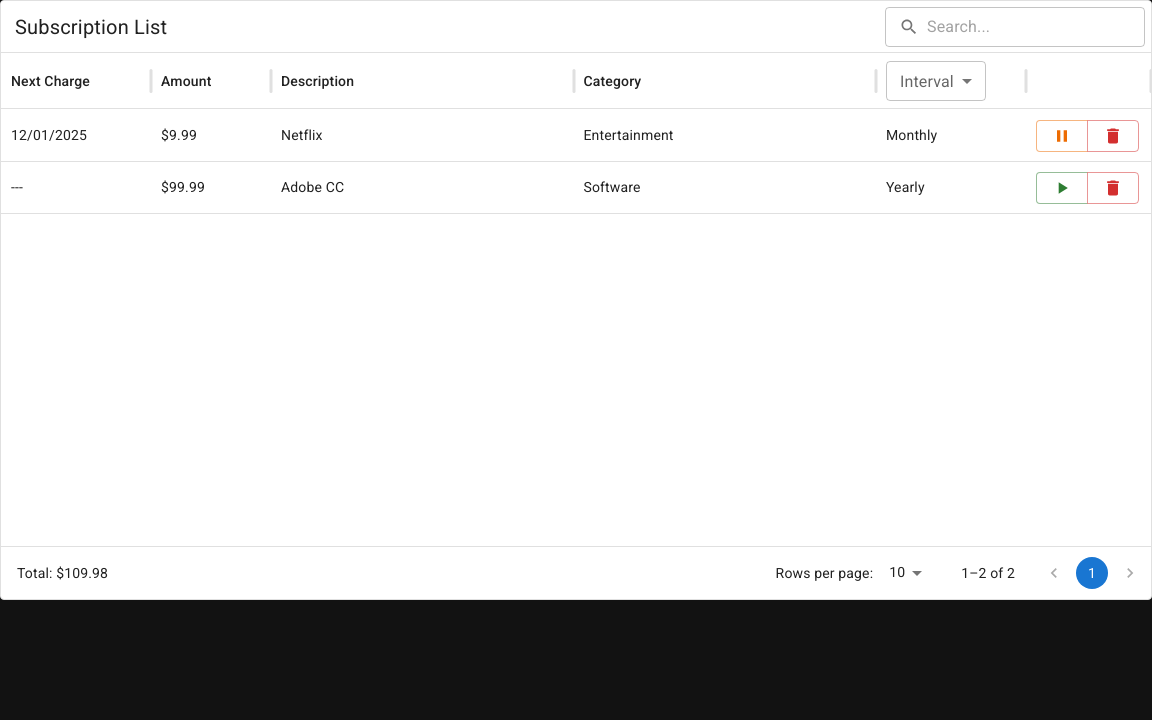
Test case: Subscription List Component › Delete Subscription › Closes dialog when cancel is clicked
The width and height of the screenshot is (1152, 720).
Click the button named "delete" in the row of "12/01/2025": [1113, 136] box [1087, 120, 1139, 152]
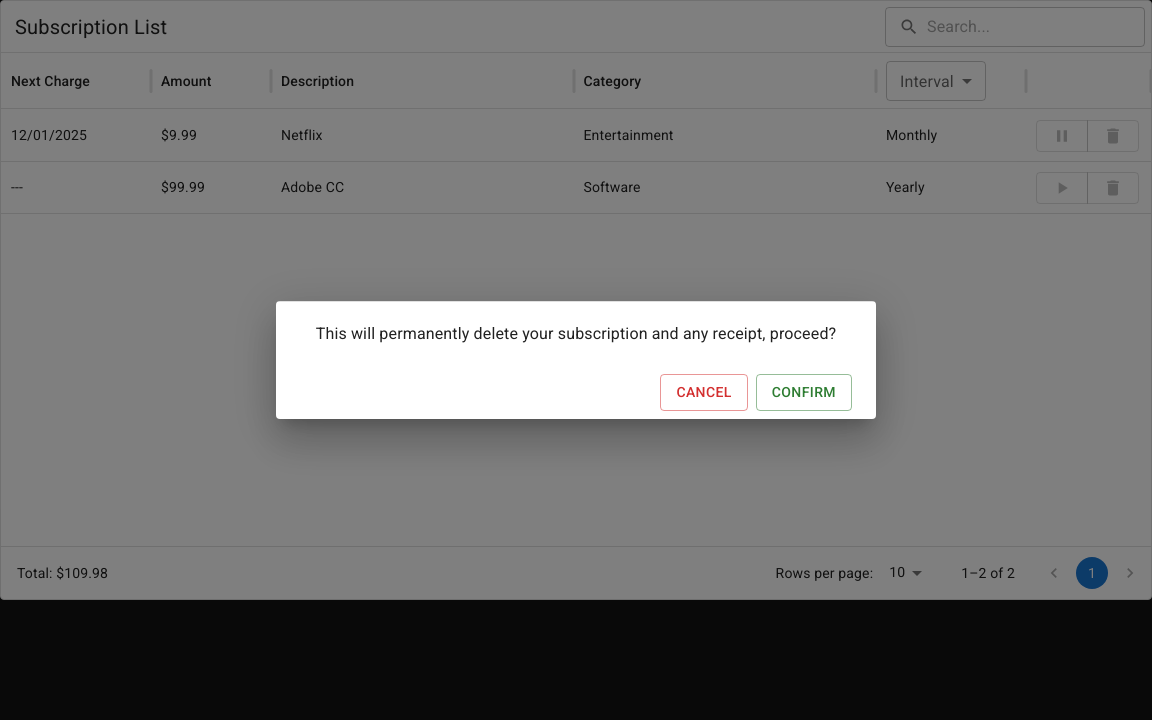
Result: the text "permanently delete" is shown at [316, 324, 836, 343]
Click the button "Cancel": [704, 393] box [660, 374, 748, 411]
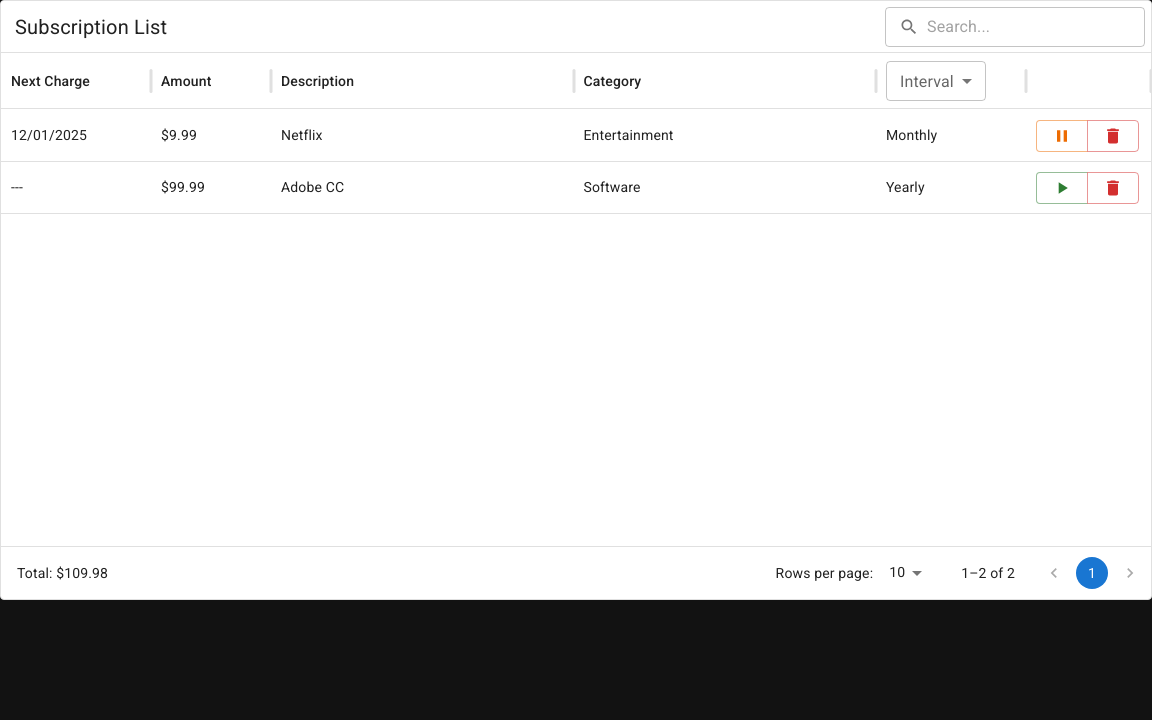
Result: the text "permanently delete" is gone
